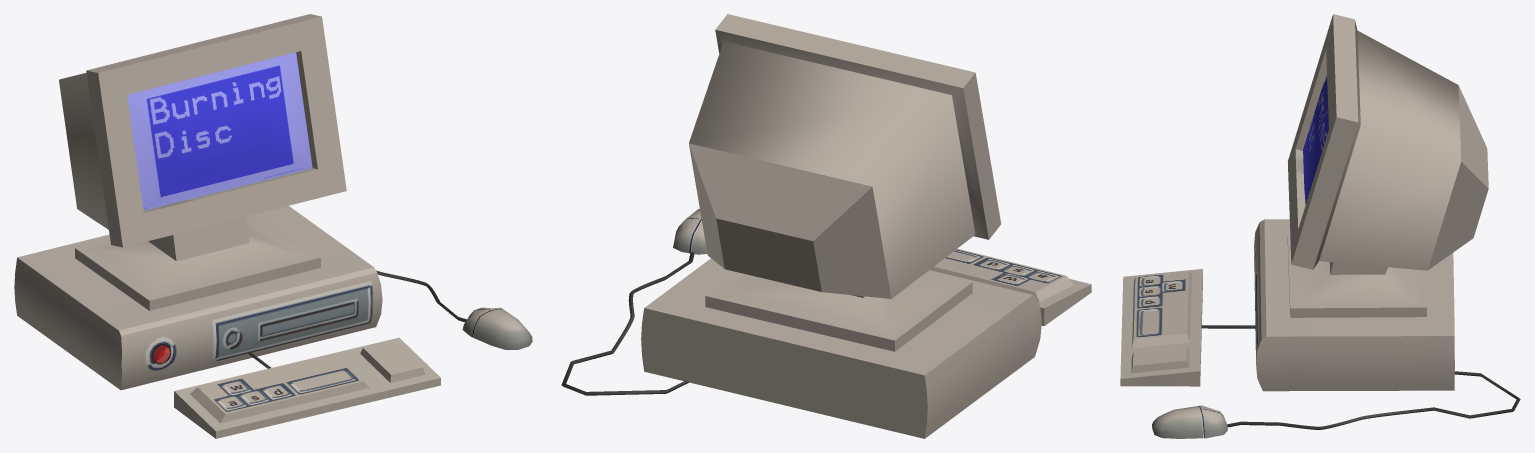
File: computer.FBX
3 views of the same model, side by side, from view 1: azimuth 30°, elevation 25°; view 2: azimuth 150°, elevation 25°; view 3: azimuth 270°, elevation 25° (orthographic). The views are drawn at different scales.
Parts seen in each view (by area): view 1: _computer, _desktop, _screen, _keyboard, _mouse; view 2: _computer, _desktop, _keyboard, _mouse_wire, _mouse; view 3: _computer, _desktop, _keyboard, _mouse, _screen, _mouse_wire.
Boxes of the visible parts, x1,y1,x2,y2 form: _computer: (59,14,346,310); _desktop: (14,206,382,390); _screen: (127,52,312,210); _keyboard: (174,337,440,438); _mouse: (462,307,532,349); _computer: (689,14,1001,351); _desktop: (641,258,1041,438); _keyboard: (930,248,1091,325); _mouse_wire: (561,252,694,395); _mouse: (673,209,707,254); _computer: (1287,14,1488,317); _desktop: (1254,219,1454,391); _keyboard: (1120,269,1202,386); _mouse: (1152,405,1227,438); _screen: (1303,76,1328,204); _mouse_wire: (1227,371,1520,429).
Bounding box in the file's own units: 1.08 × 0.8153 × 1.1.
